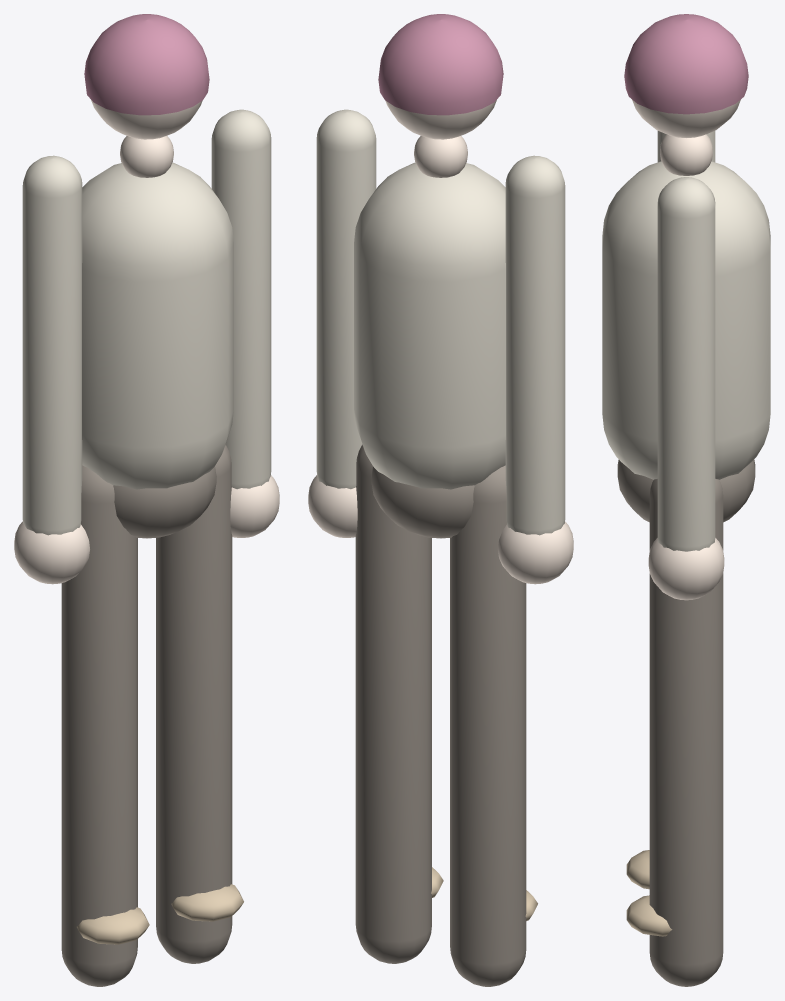
The model's file is female_artsy_25.glb.
The picture shows the model from 3 angles, left to right: view 1: azimuth 30°, elevation 25°; view 2: azimuth 150°, elevation 25°; view 3: azimuth 270°, elevation 25°; orthographic projection.
Visible parts, largest first — view 1: torso, leg_l, leg_r, arm_l, arm_r, hair, hips, hand_l, hand_r, head, neck, shoe_l (+1 smaller); view 2: torso, leg_l, leg_r, arm_l, arm_r, hair, hips, hand_l, hand_r, head, neck; view 3: torso, leg_r, arm_r, hair, hand_r, hips, head, neck, shoe_r, shoe_l.
Boxes of the visible parts, bbox=[...] form: torso: bbox=[82, 162, 233, 489]; leg_l: bbox=[61, 465, 137, 986]; leg_r: bbox=[156, 444, 232, 963]; arm_l: bbox=[22, 155, 82, 535]; arm_r: bbox=[211, 109, 271, 489]; hair: bbox=[84, 14, 209, 115]; hips: bbox=[113, 466, 216, 538]; hand_l: bbox=[14, 521, 89, 584]; hand_r: bbox=[230, 475, 279, 537]; head: bbox=[91, 100, 202, 139]; neck: bbox=[120, 136, 173, 177]; shoe_l: bbox=[77, 907, 149, 944]; torso: bbox=[354, 162, 505, 489]; leg_l: bbox=[450, 465, 526, 986]; leg_r: bbox=[355, 444, 431, 963]; arm_l: bbox=[505, 155, 565, 535]; arm_r: bbox=[316, 109, 376, 489]; hair: bbox=[378, 14, 503, 115]; hips: bbox=[371, 466, 474, 538]; hand_l: bbox=[498, 521, 573, 584]; hand_r: bbox=[308, 475, 357, 537]; head: bbox=[385, 100, 496, 139]; neck: bbox=[414, 136, 467, 177]; torso: bbox=[602, 161, 770, 479]; leg_r: bbox=[649, 479, 723, 986]; arm_r: bbox=[657, 177, 715, 551]; hair: bbox=[624, 14, 748, 114]; hand_r: bbox=[648, 538, 724, 600]; hips: bbox=[617, 459, 755, 522]; head: bbox=[632, 99, 740, 137]; neck: bbox=[660, 134, 712, 175]; shoe_r: bbox=[626, 895, 672, 936]; shoe_l: bbox=[626, 850, 649, 889].
Bounding box in the file's own units: 0.4887 × 1.73 × 0.2808.
